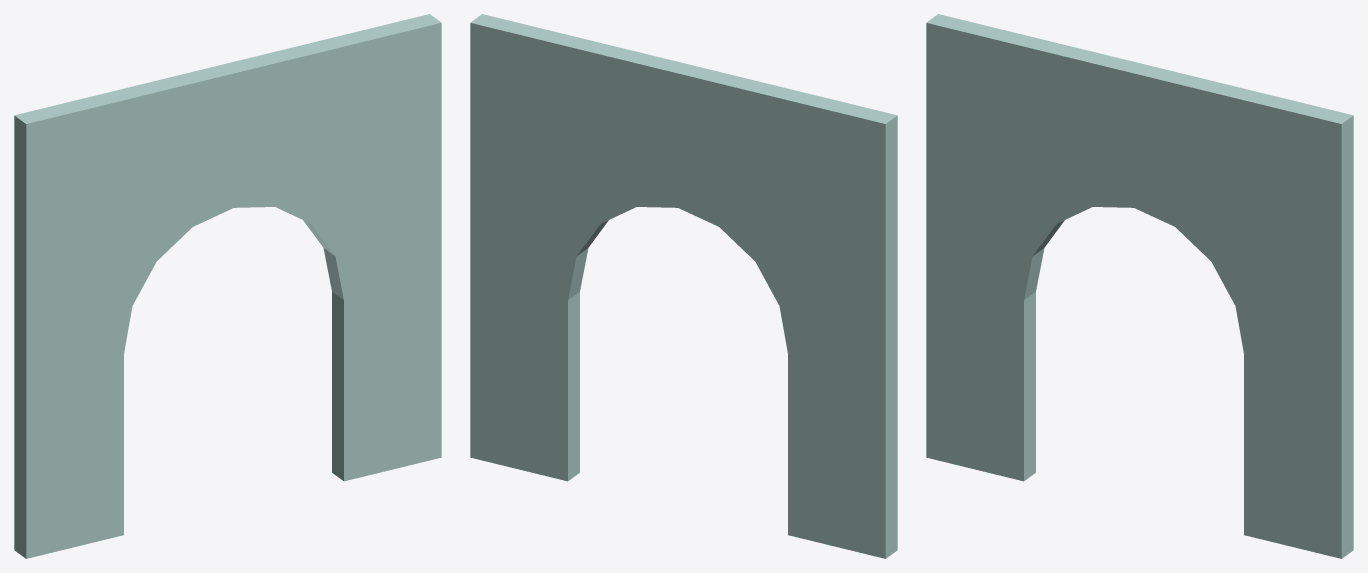
Rendered from Wall4mDoorway.fbx.
3 renders of one model, left to right at view 1: azimuth 30°, elevation 25°; view 2: azimuth 150°, elevation 25°; view 3: azimuth 330°, elevation 25°, orthographic.
Visible parts, largest first — view 1: Wall4mDoorway; view 2: Wall4mDoorway; view 3: Wall4mDoorway.
Boxes of the visible parts, x1,y1,x2,y2 form: Wall4mDoorway: (14,14,441,558); Wall4mDoorway: (470,14,897,558); Wall4mDoorway: (926,14,1353,558).
Bounding box in the file's own units: 400 × 400 × 20.
